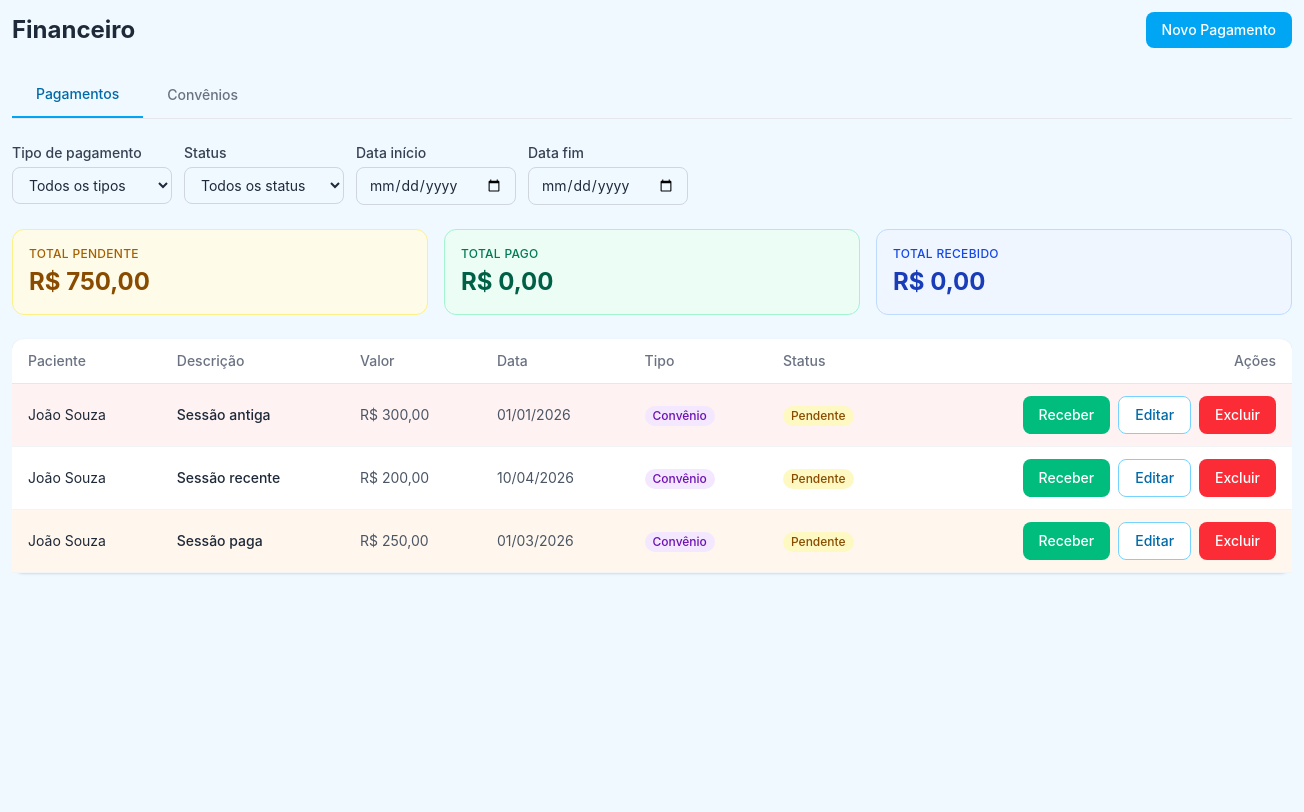
Test case: ConvenioPanel › filters by status in convenio tab
Click the button "Convênios". click: (203, 95)
box: [143, 72, 262, 118]
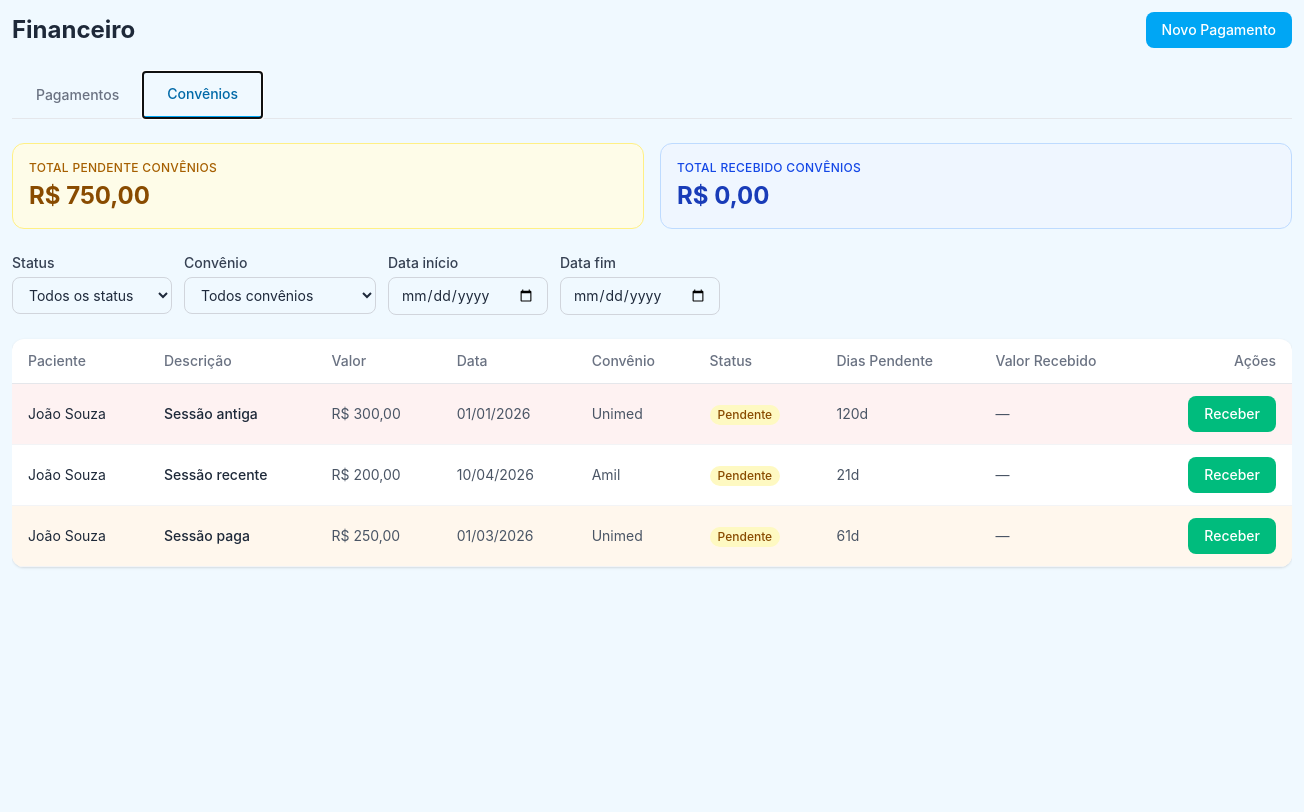
Expected: the text "Sessão antiga" is shown, [148, 384, 316, 444]
Select "Pago" in the 1st dropdown. click: (92, 296)
box: [12, 277, 172, 314]
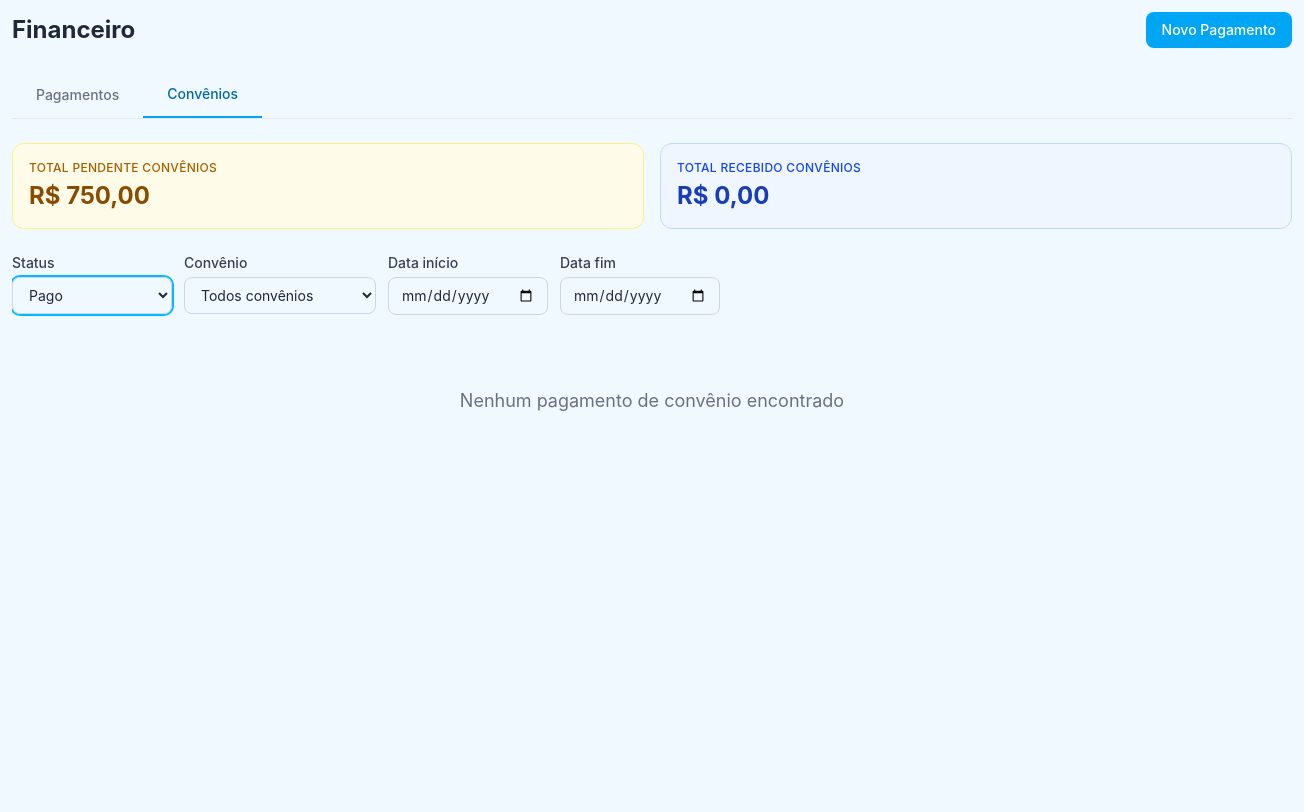
Now the text "Nenhum pagamento de convênio encontrado" is shown, box [460, 387, 844, 415]
